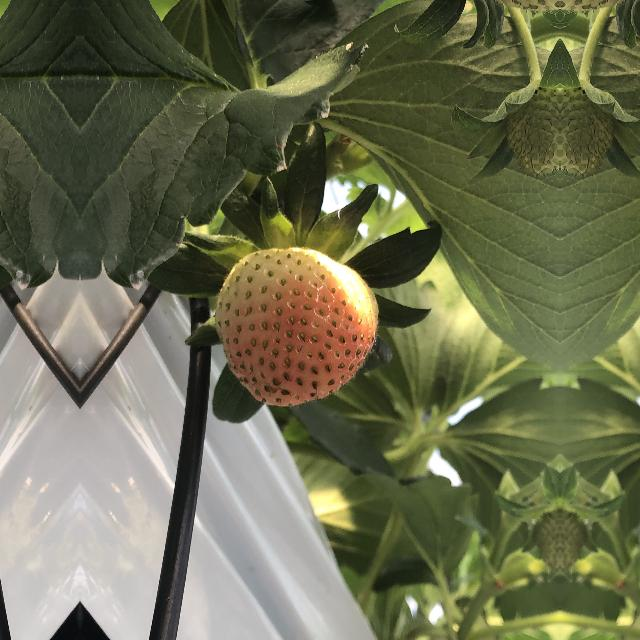Health_75: (208, 238, 382, 414)
